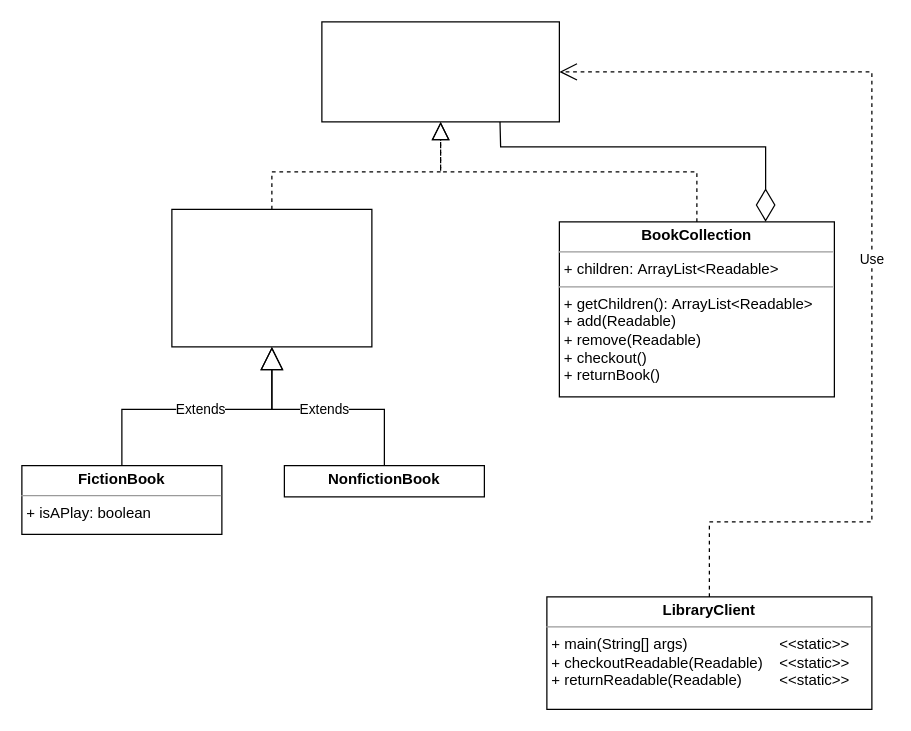
Some shapes in this 911 by 731 pixel diagram are drawn without their labels. Here are the shapes that lost their labels. From the top down, the box of each, then its label:
(321, 21, 559, 122): <<Interface>> Readable + checkout () + returnBook( )
(171, 208, 372, 347): Book + name : String + checkedOut: boolean + checkout () + returnBook()
